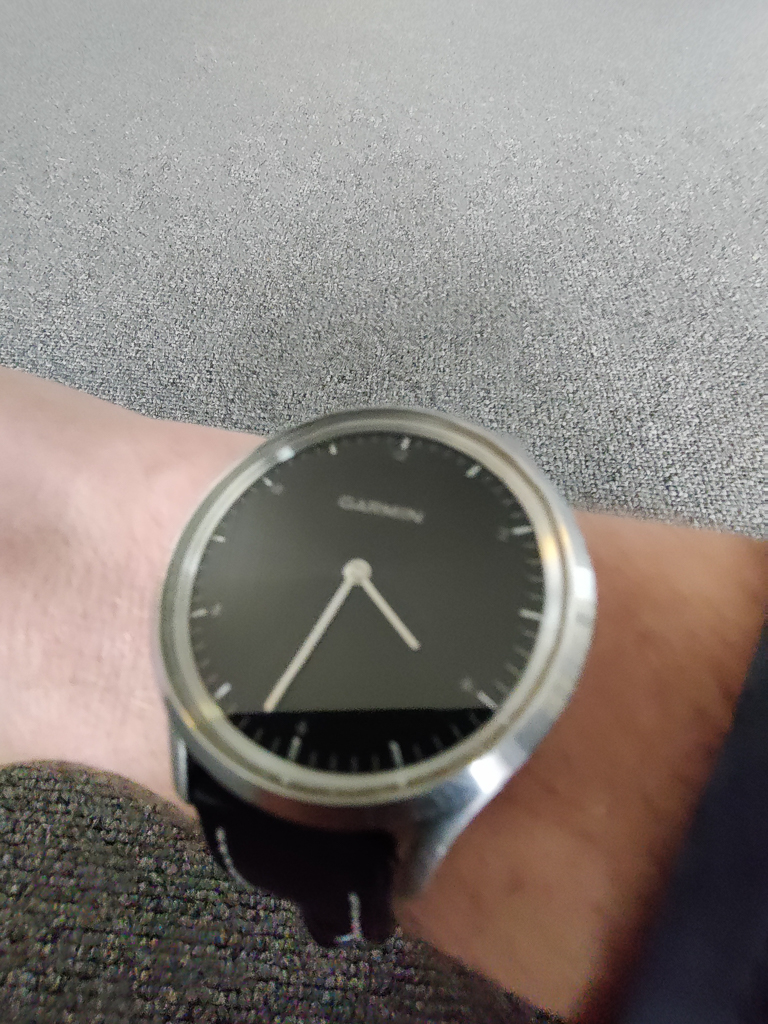Humanoid: (0, 350, 768, 1024)
